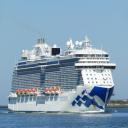cruises: (7, 36, 117, 117)
